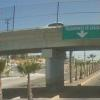Bridge: (3, 19, 100, 90)
